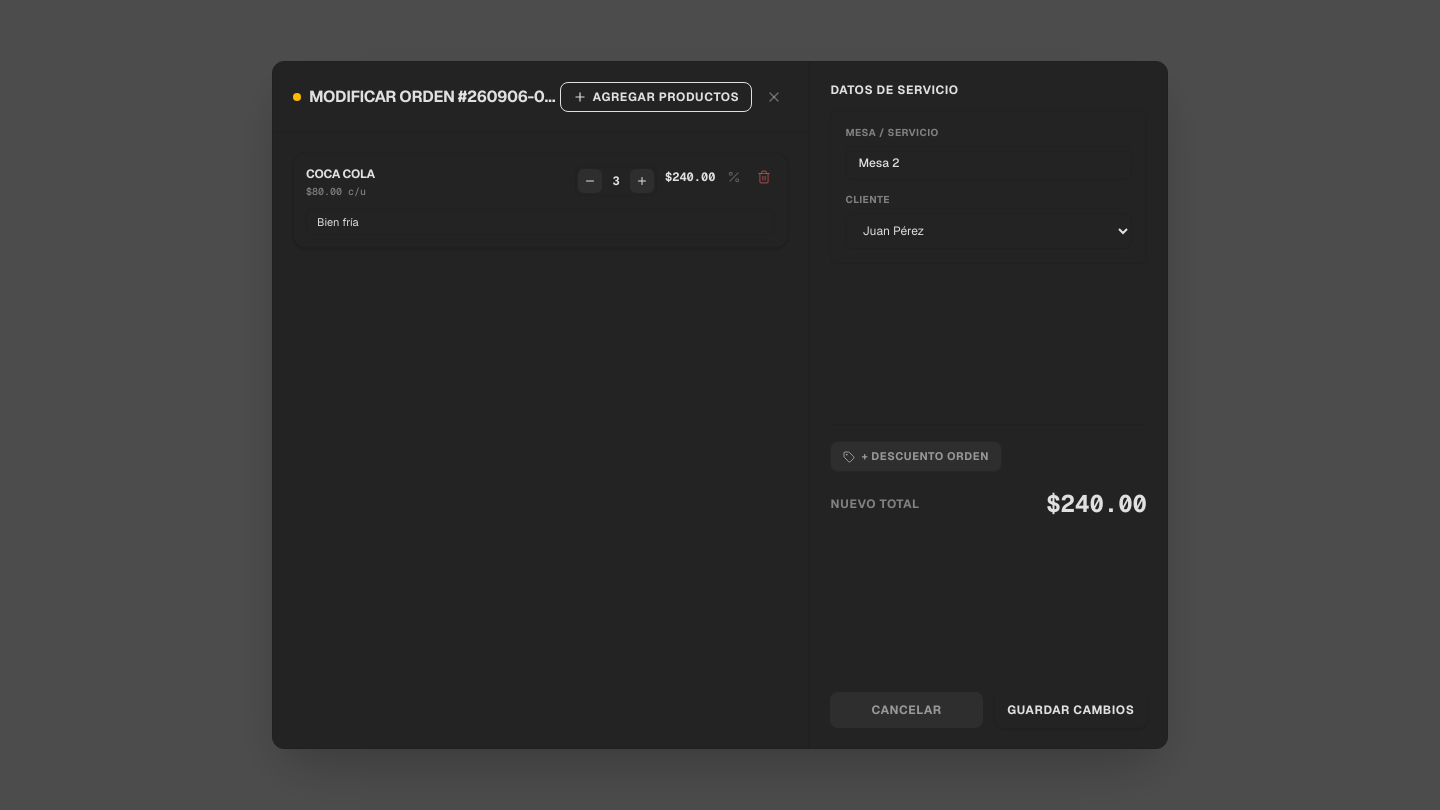
POSModifyOrderModal Component › opens order discount modal when clicking '+ Descuento Orden' button
Click the button "+ Descuento Orden" at (916, 457), box [830, 441, 1002, 472]
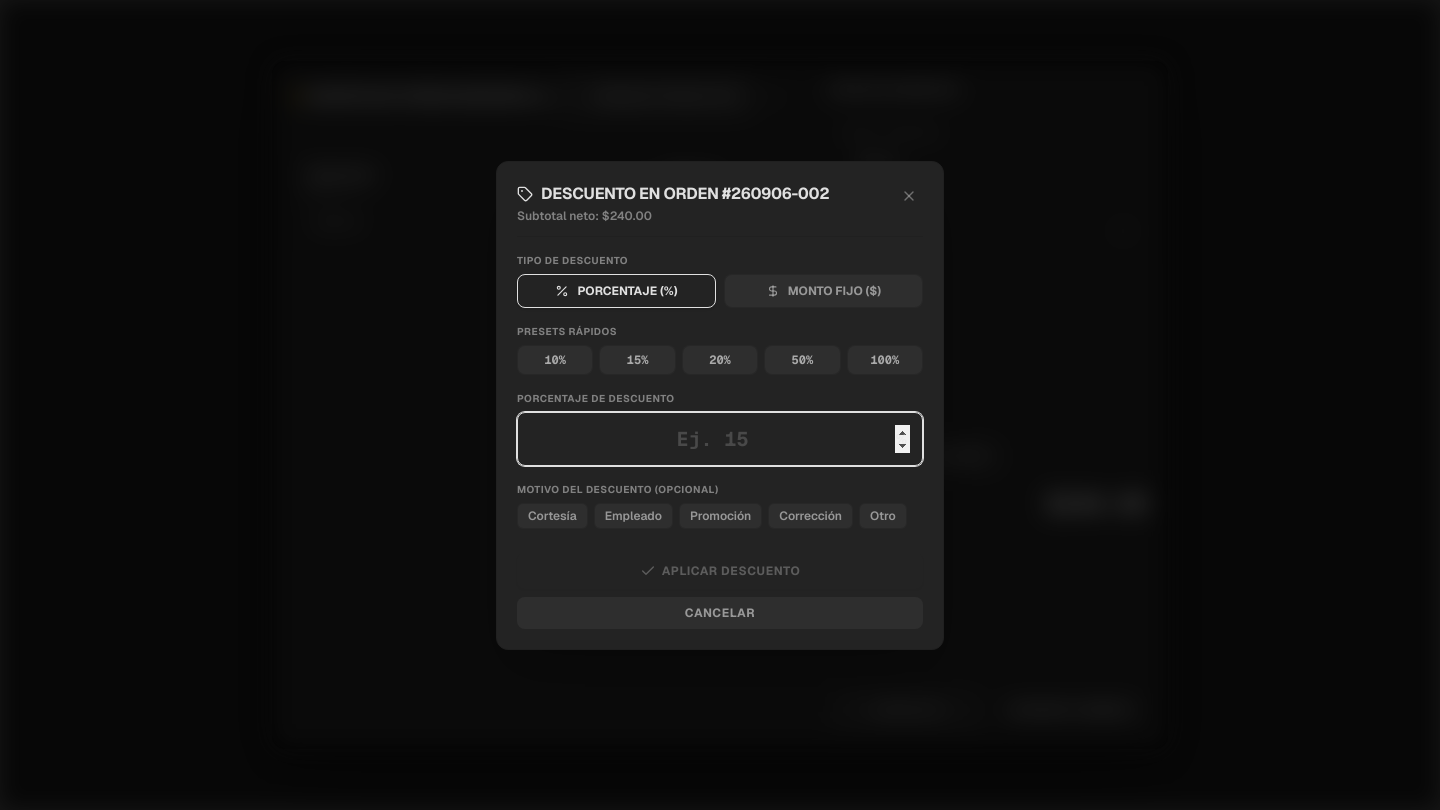
Expected: the dialog is shown
Expected: the heading "Descuento en Orden #260906-002" is shown, [517, 182, 829, 206]
